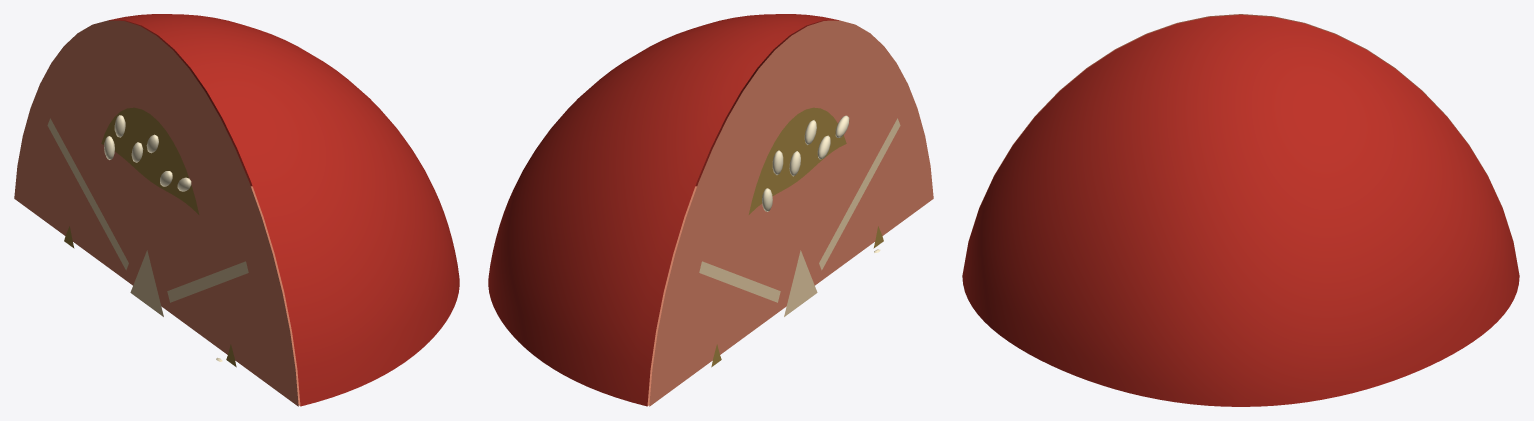
File: early_girl_wedge.glb
3 views of the same model, side by side, from view 1: azimuth 30°, elevation 25°; view 2: azimuth 150°, elevation 25°; view 3: azimuth 270°, elevation 25° (orthographic). The views are drawn at different scales.
Visible parts, largest first — view 1: Prepared Early Girl half, Early Girl coral cut flesh, Three curved Early Girl seed galleries, Early Girl triangular cream core, Eighteen Early Girl cream seeds; view 2: Prepared Early Girl half, Early Girl coral cut flesh, Three curved Early Girl seed galleries, Early Girl triangular cream core, Eighteen Early Girl cream seeds; view 3: Prepared Early Girl half, Early Girl coral cut flesh.
Boxes of the visible parts, <box> form: Prepared Early Girl half: <box>109,14,459,406</box>; Early Girl coral cut flesh: <box>14,20,298,406</box>; Three curved Early Girl seed galleries: <box>64,107,236,367</box>; Early Girl triangular cream core: <box>47,118,248,316</box>; Eighteen Early Girl cream seeds: <box>104,115,191,191</box>; Prepared Early Girl half: <box>488,14,838,406</box>; Early Girl coral cut flesh: <box>649,20,933,406</box>; Three curved Early Girl seed galleries: <box>711,107,883,367</box>; Early Girl triangular cream core: <box>699,118,900,316</box>; Eighteen Early Girl cream seeds: <box>762,115,849,211</box>; Prepared Early Girl half: <box>962,15,1519,406</box>; Early Girl coral cut flesh: <box>962,14,1519,275</box>.
Bounding box in the file's own units: 0.661 × 0.58 × 1.12.
